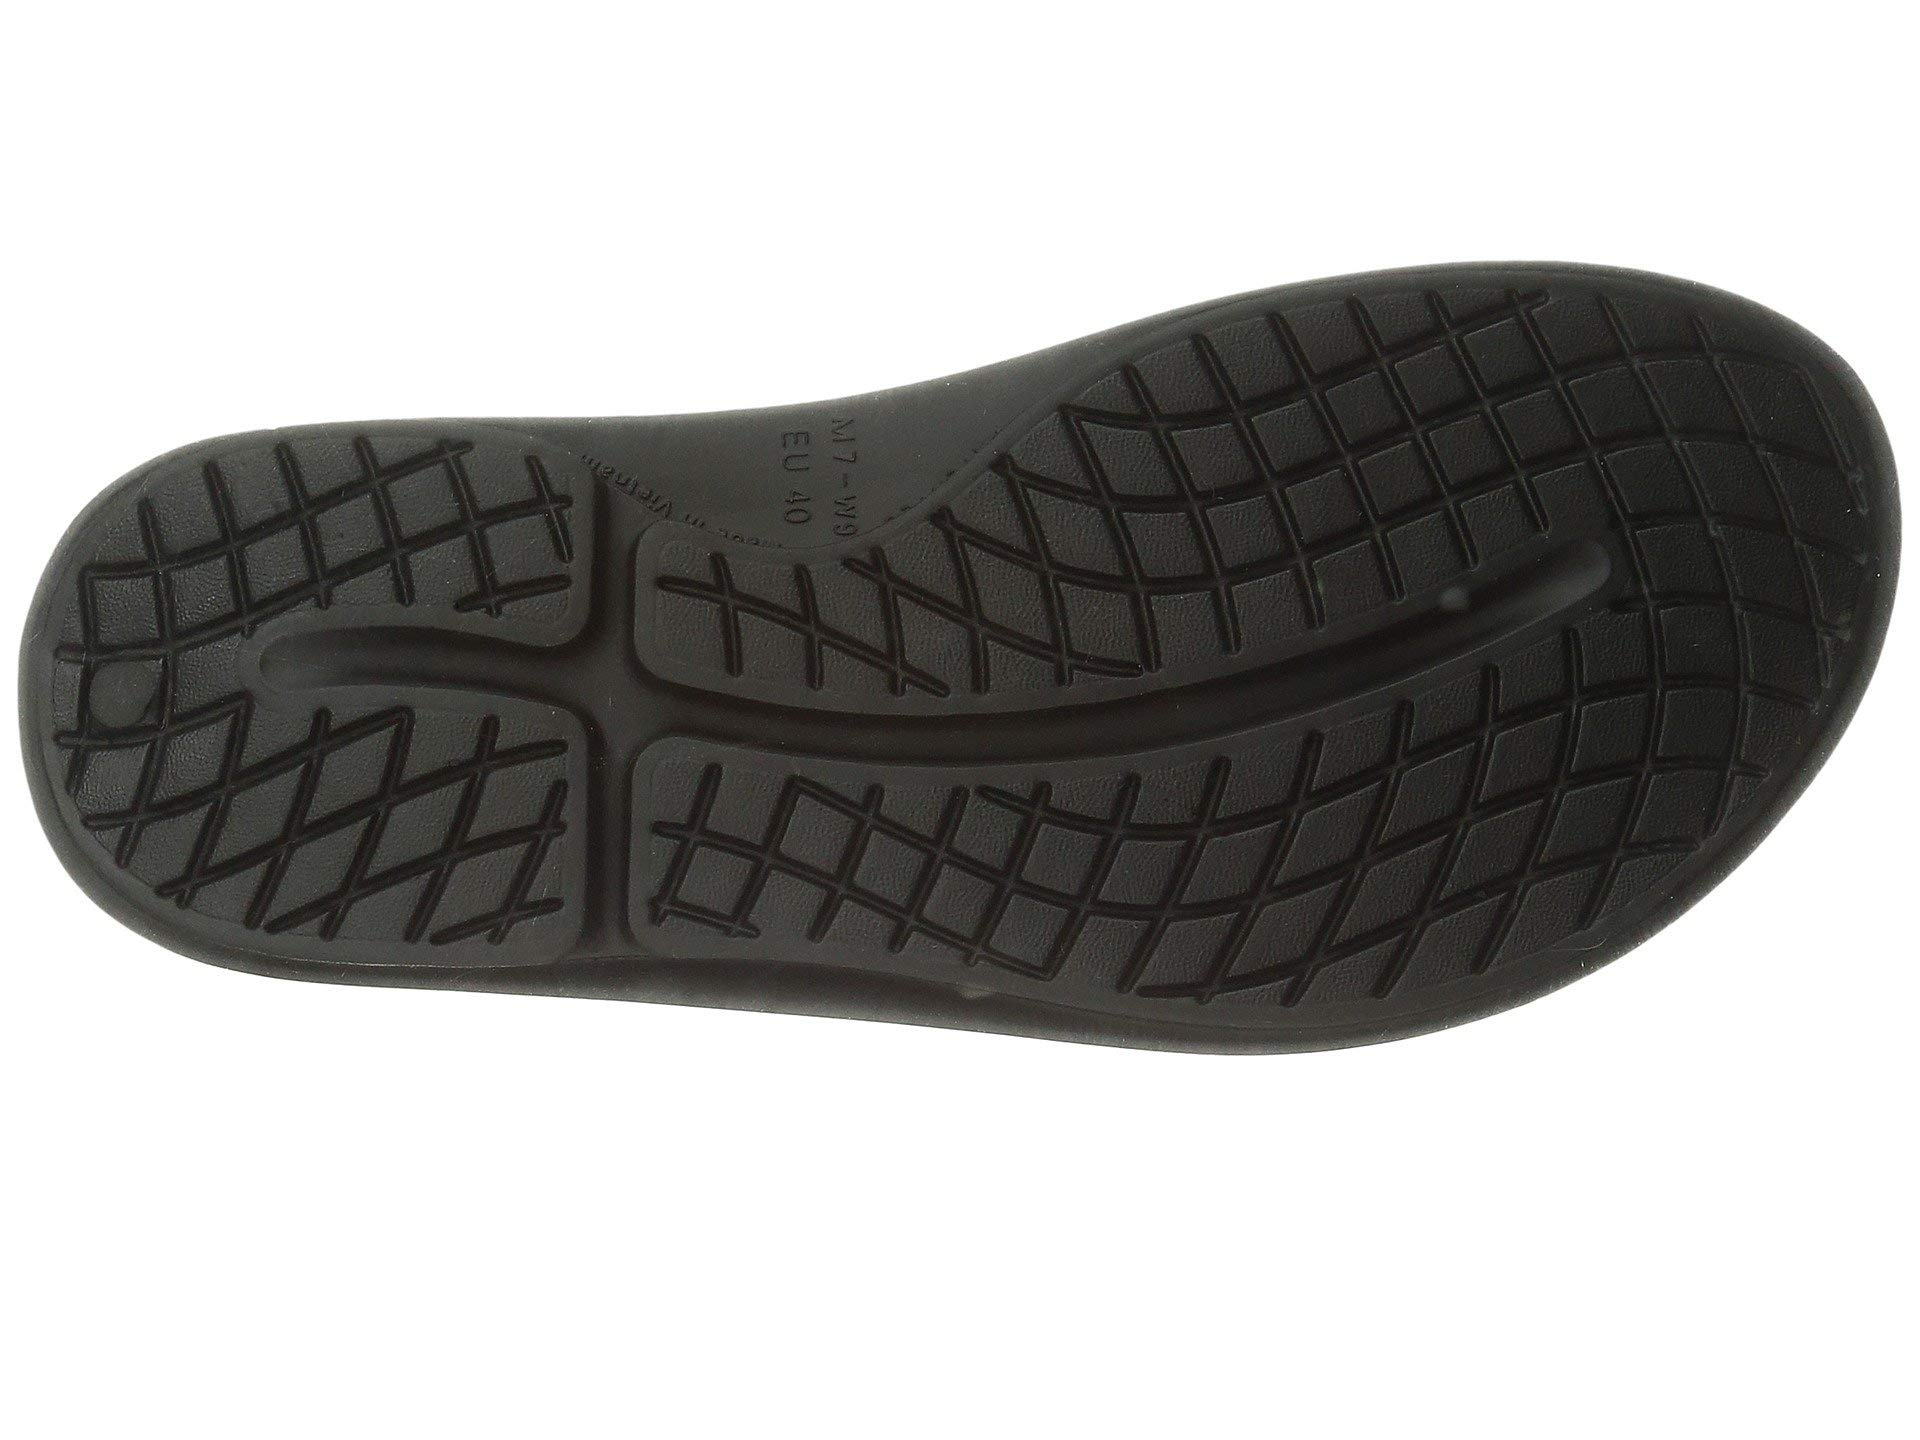quad: (639, 709, 1592, 951), (125, 504, 559, 921), (1060, 337, 1736, 599), (125, 696, 618, 924), (184, 451, 574, 601)
